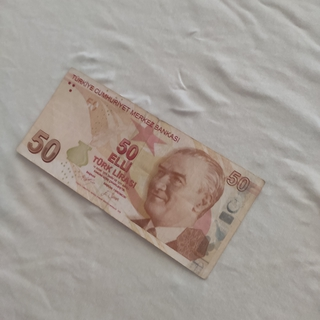50TLFront: (16, 68, 266, 280)
